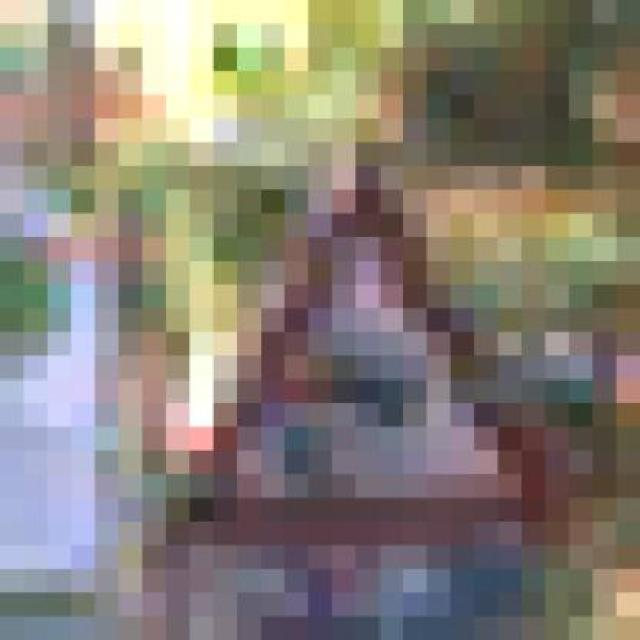Slippery Road Ahead: (118, 118, 592, 570)
